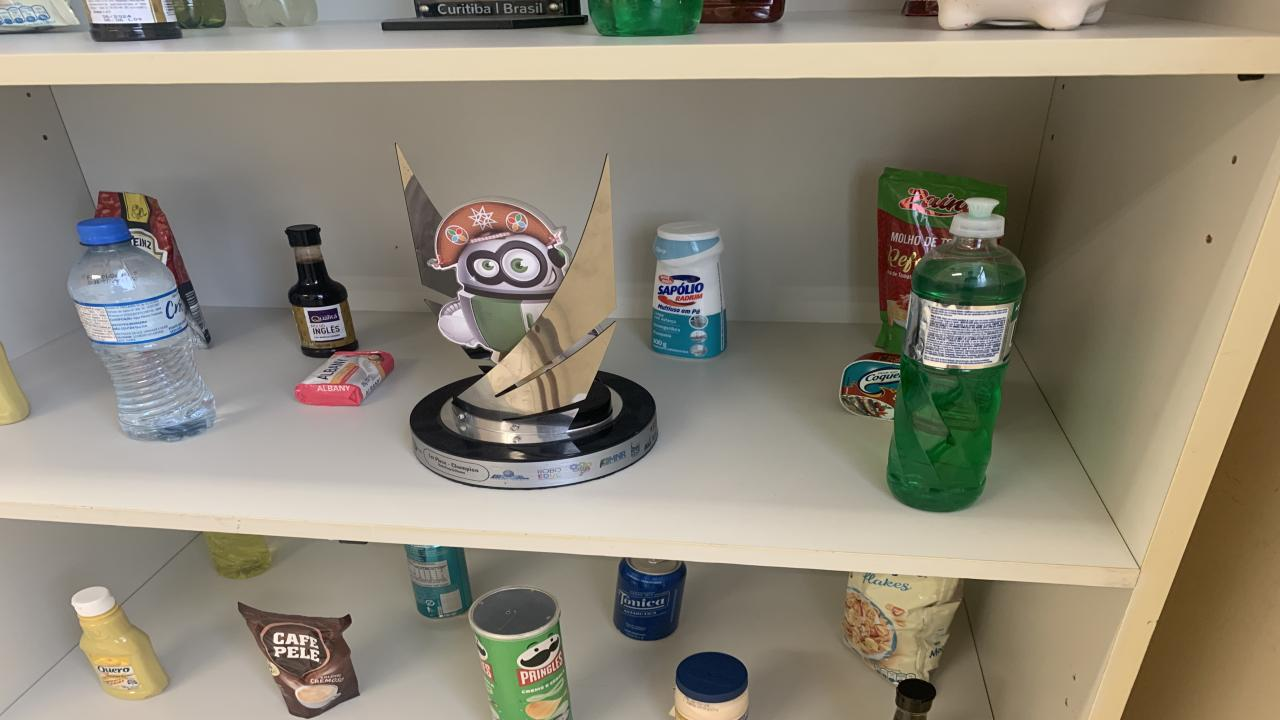Cleaner-Cleanup_Items: (652, 221, 725, 358)
Coffee-Pantry_Items: (238, 604, 358, 718)
Detergent-Cleanup_Items: (888, 199, 1025, 512), (588, 0, 702, 36), (202, 532, 272, 579)
English_Sauce-Pantry_Items: (285, 225, 358, 358), (85, 0, 182, 41), (892, 679, 938, 720)
Flakes-Snacks: (842, 572, 962, 684)
Ketchup-Pantry_Items: (700, 0, 785, 22)
Mayonnaise-Pantry_Items: (675, 652, 748, 720)
Mustard-Pantry_Items: (70, 587, 170, 699), (0, 343, 30, 426)
Pig_Safe-Miscellaneous: (938, 0, 1108, 30)
Pringles-Snacks: (468, 585, 570, 720)
Soap-Cleanup_Items: (295, 351, 392, 405)
Soda-Drinks: (240, 0, 318, 28)
Tea-Drinks: (405, 544, 472, 619)
Tomato_Sauce-Pantry_Items: (875, 167, 1008, 352), (95, 191, 210, 349)
Tonic-Drinks: (612, 559, 688, 641)
Trophy-Miscellaneous: (395, 150, 658, 489)
Tuna_Can-Pantry_Items: (840, 352, 900, 420)
Water_Bottle-Drinks: (68, 218, 215, 441)
